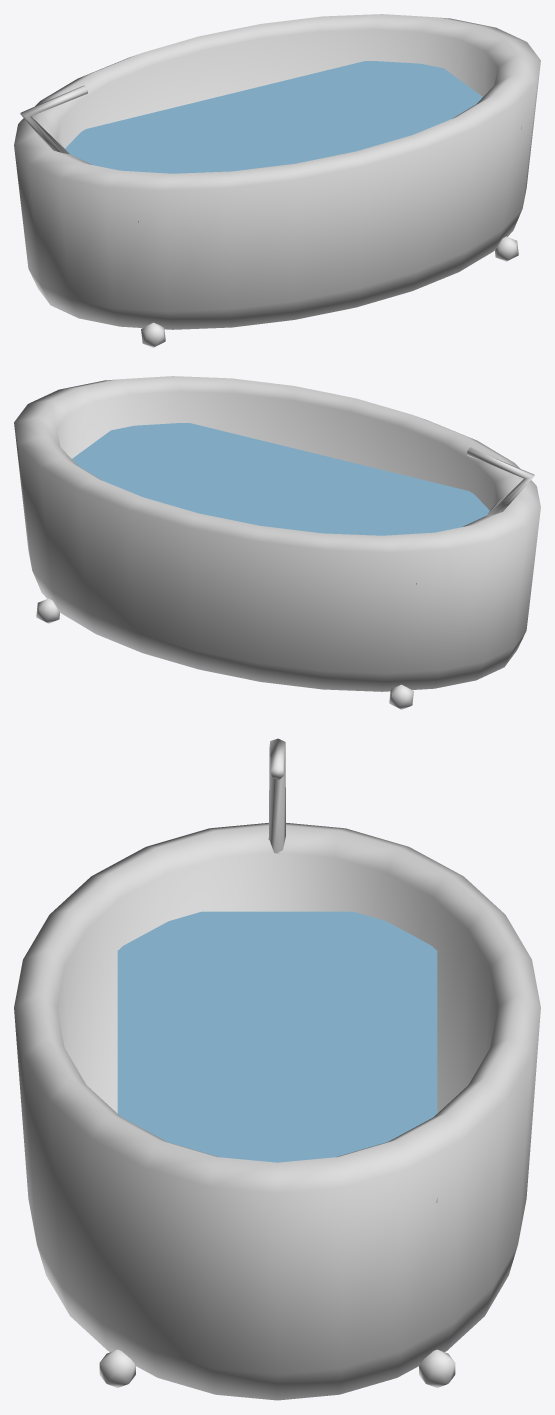
File: wooden_bathtub_v0.glb
3 renders of one model, top to bottom at view 1: azimuth 30°, elevation 25°; view 2: azimuth 150°, elevation 25°; view 3: azimuth 270°, elevation 25°, orthographic. The views are drawn at different scales.
Visible parts, largest first — view 1: wooden_bathtub_v0; view 2: wooden_bathtub_v0; view 3: wooden_bathtub_v0.
Boxes of the visible parts, bbox=[...] form: wooden_bathtub_v0: bbox=[14, 14, 540, 347]; wooden_bathtub_v0: bbox=[14, 376, 540, 709]; wooden_bathtub_v0: bbox=[14, 738, 540, 1400].
Bounding box in the file's own units: 2.51 × 1.08 × 1.49.
